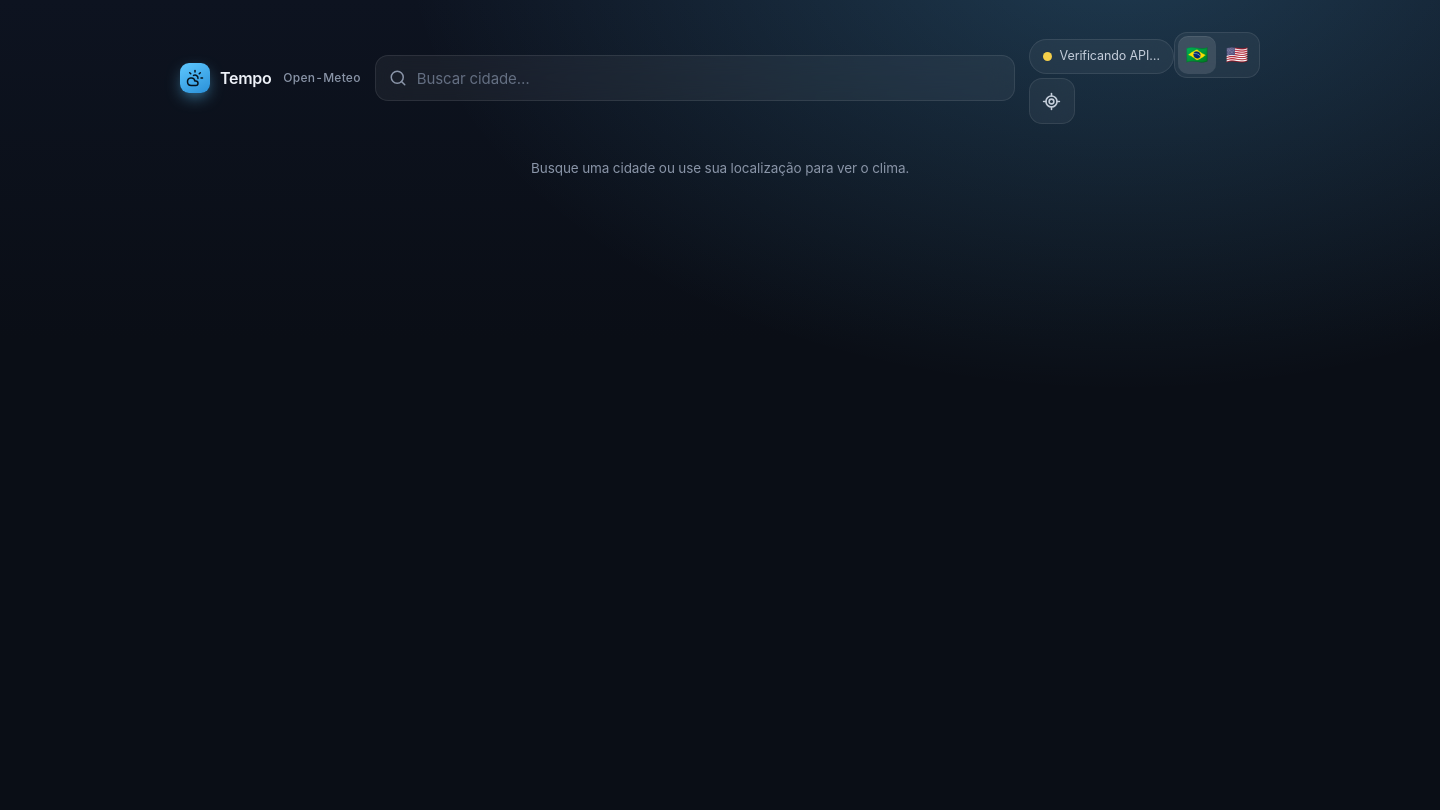
Test: WeatherDashboardPage › switches locale and re-renders API labels without reloading
Type "London" into the dropdown. click: [709, 78]
box: left=417, top=56, right=1000, bottom=100
Wait 240 ms
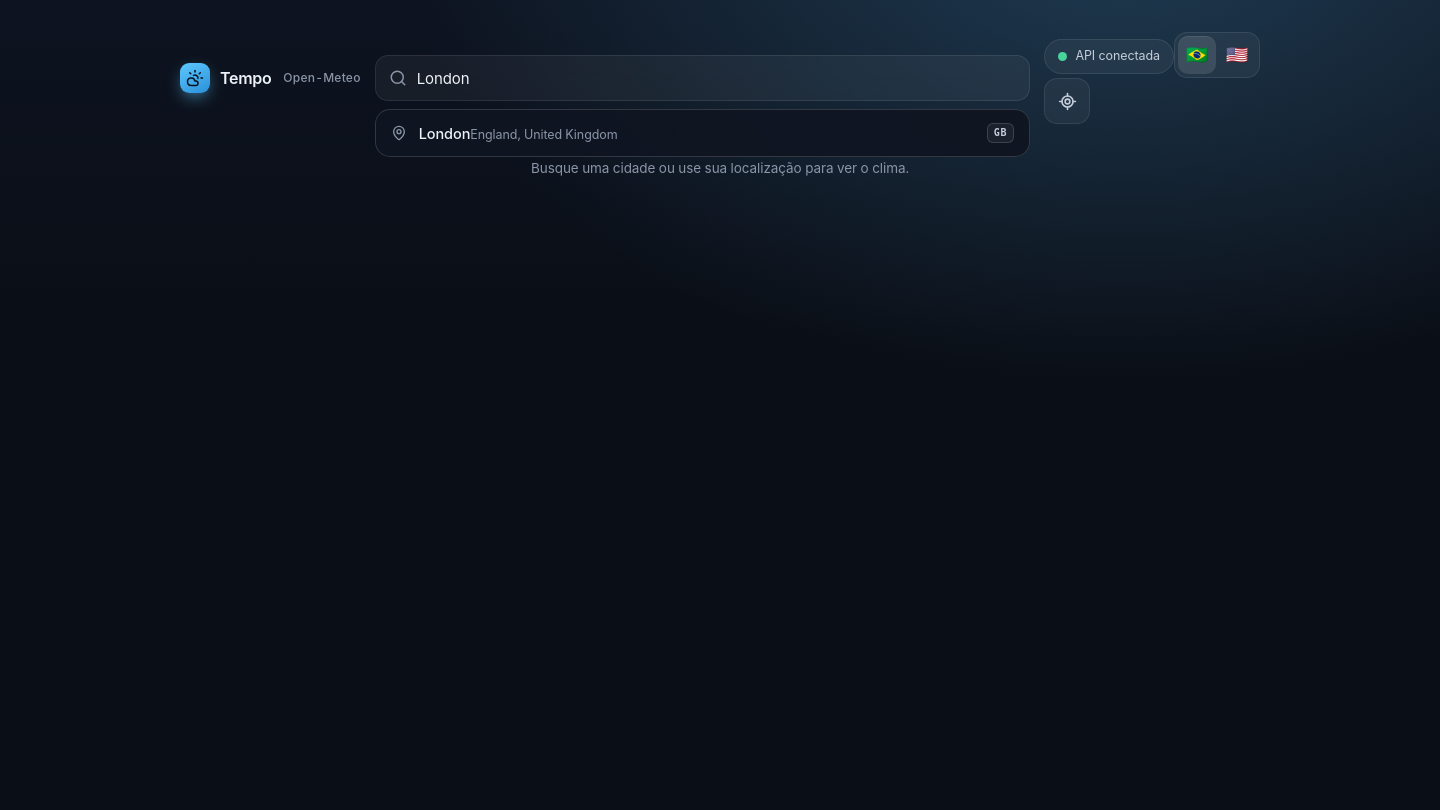
Press the mouse on the option at [444, 134], box left=376, top=110, right=1029, bottom=156
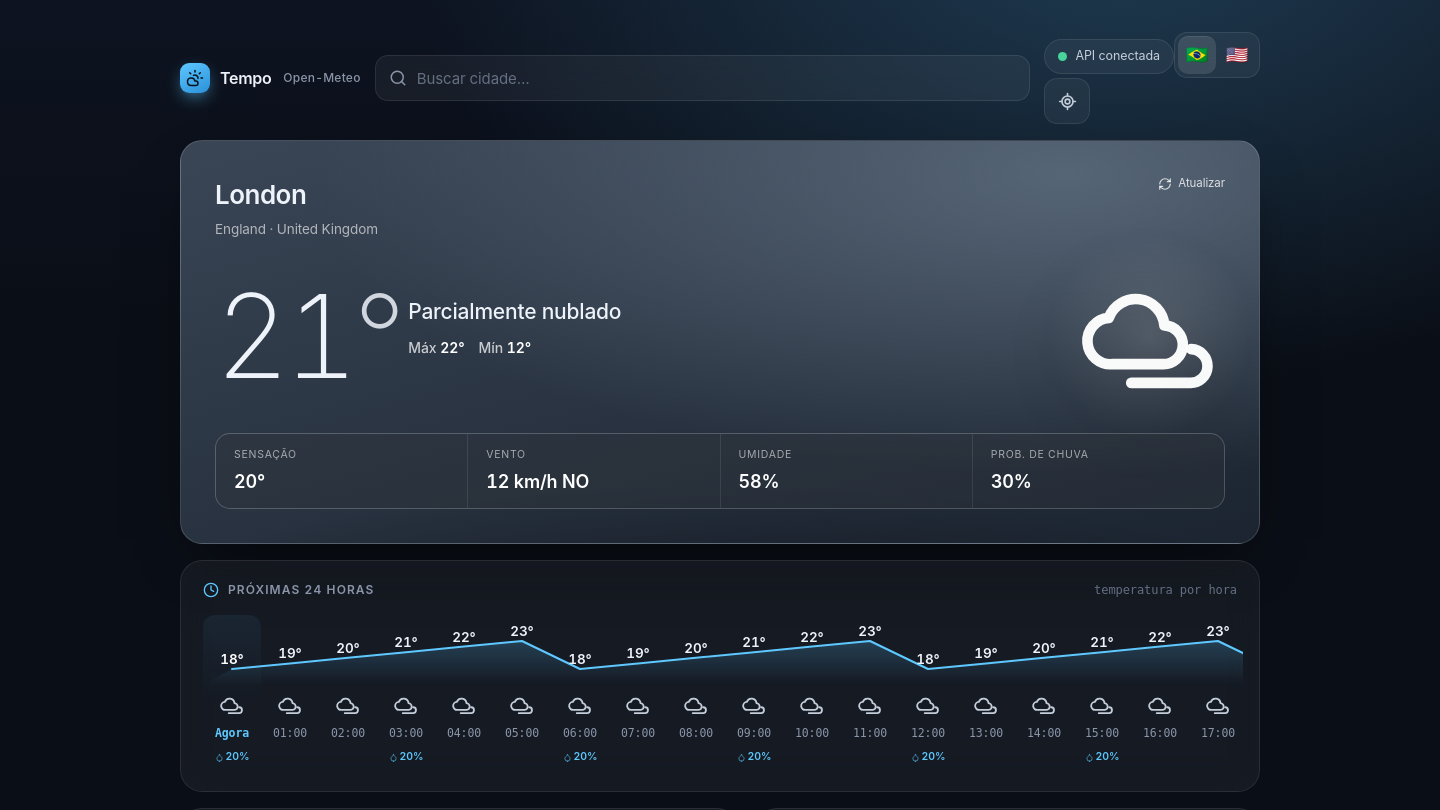
Expected: the text "Parcialmente nublado" is shown, left=408, top=296, right=621, bottom=328
Click the button named "English". click: [1237, 55]
box: left=1218, top=36, right=1256, bottom=74
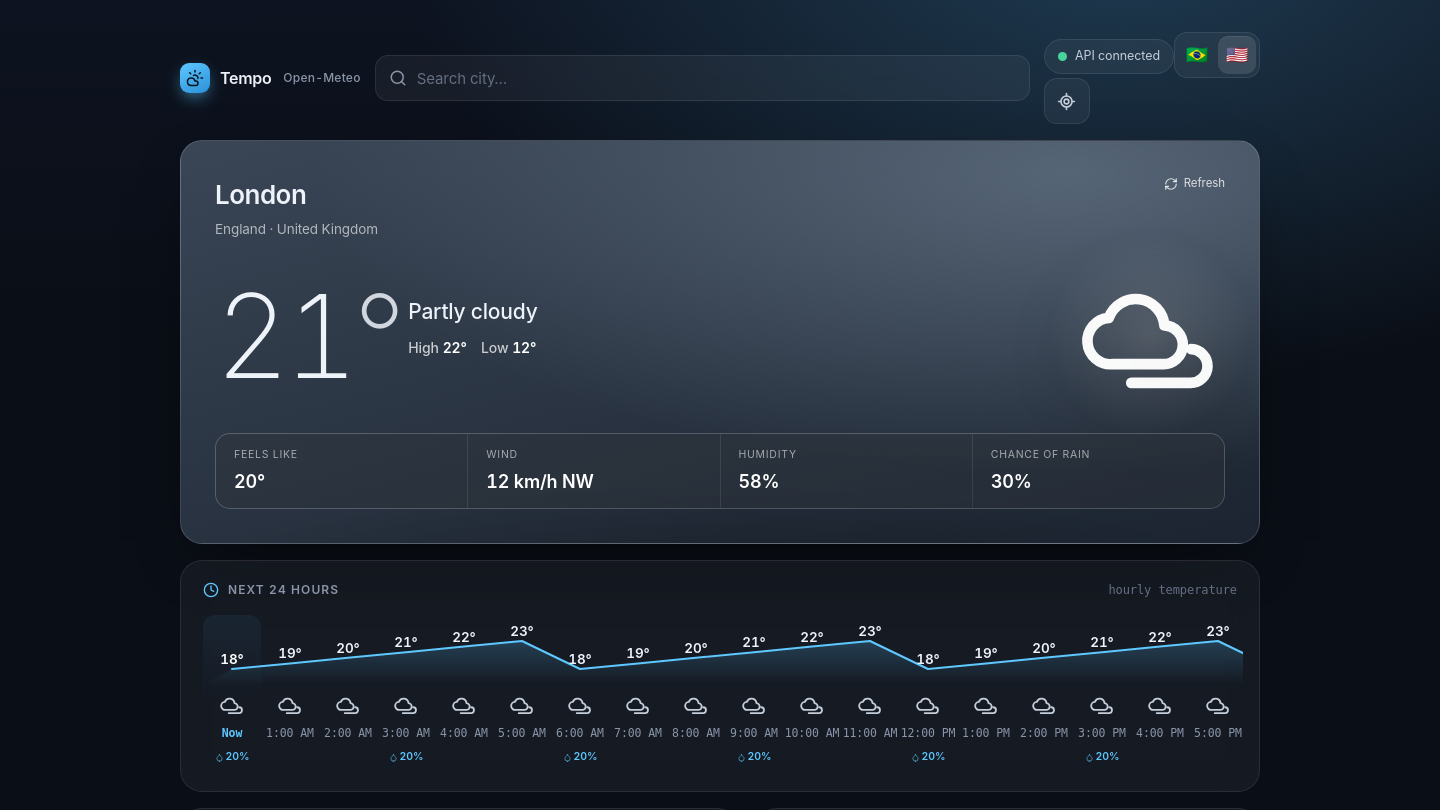
Expected: the text "Partly cloudy" is shown, left=408, top=296, right=538, bottom=328
Expected: the text "Parcialmente nublado" is gone
